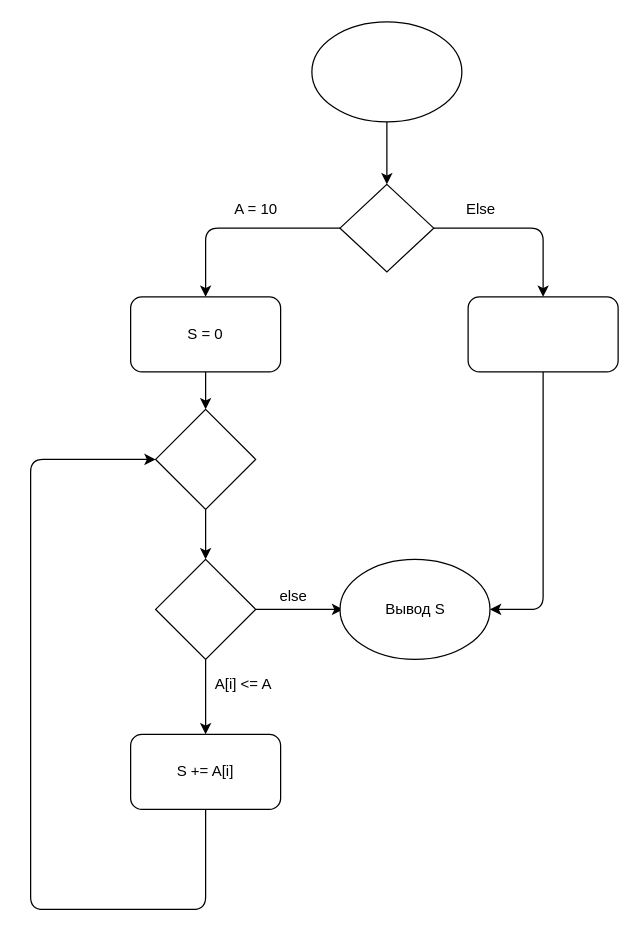
Image size: 640x941. Some labels were removed from this diagram. Each missing label, with the centre of its shape:
Ввод А: [386,71]
Вывод "неверный размер списка": [542,334]
